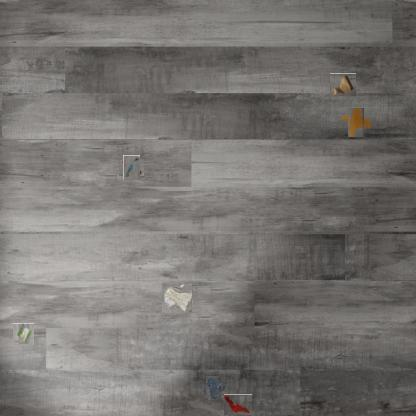dirty: (162, 283, 192, 313), (330, 73, 356, 96), (224, 394, 252, 415), (13, 323, 34, 345), (121, 157, 142, 178)
liquid: (344, 110, 367, 134), (204, 378, 224, 398)
